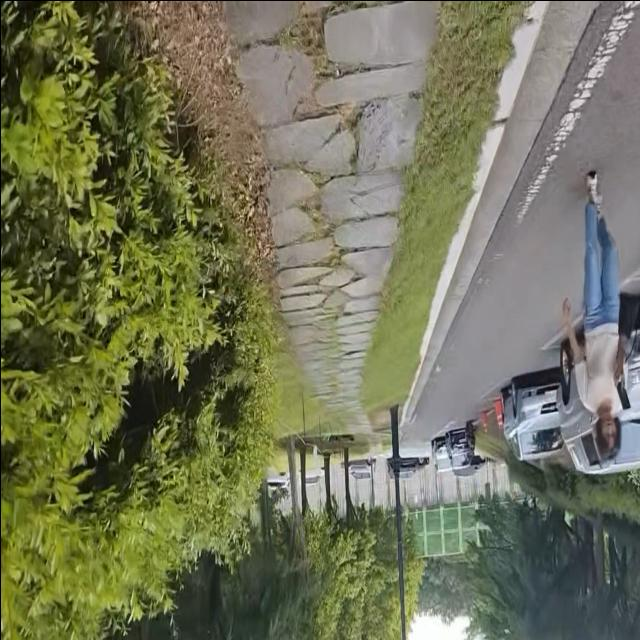obstacle: (488, 263, 640, 475), (559, 161, 632, 469), (386, 402, 407, 640), (425, 413, 476, 481)
road: (399, 0, 640, 437)
